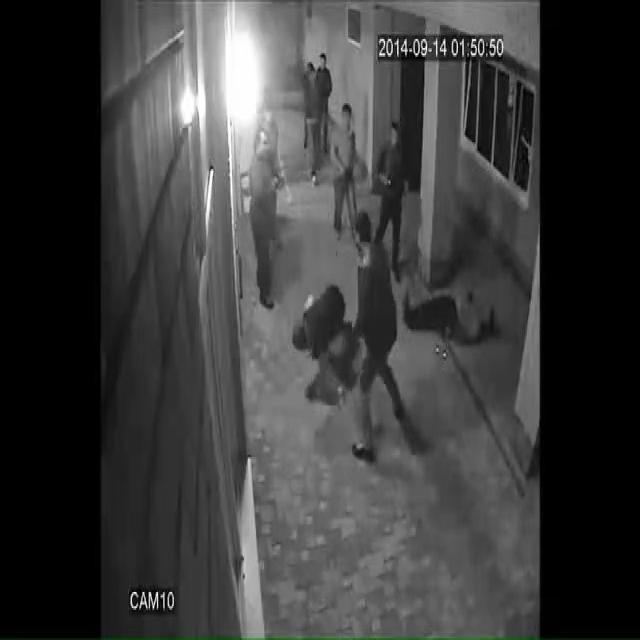fight: (284, 212, 506, 455)
